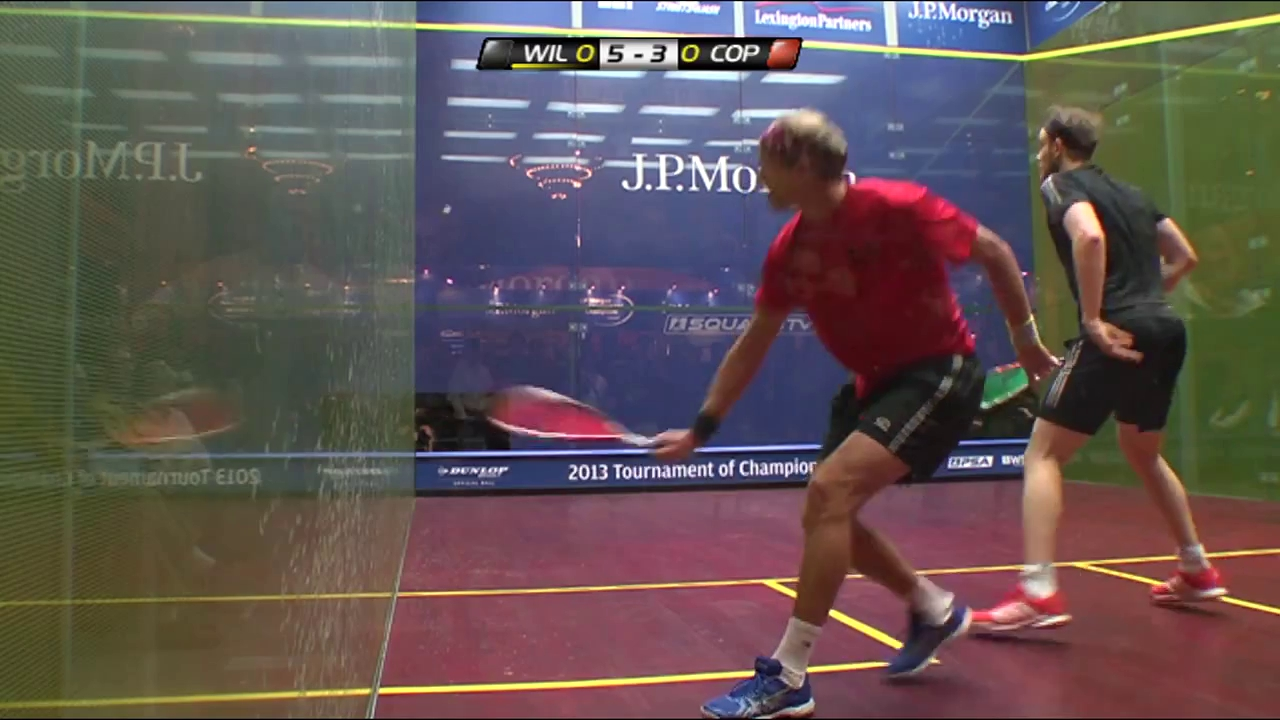person: (650, 109, 1061, 719), (971, 106, 1228, 637)
